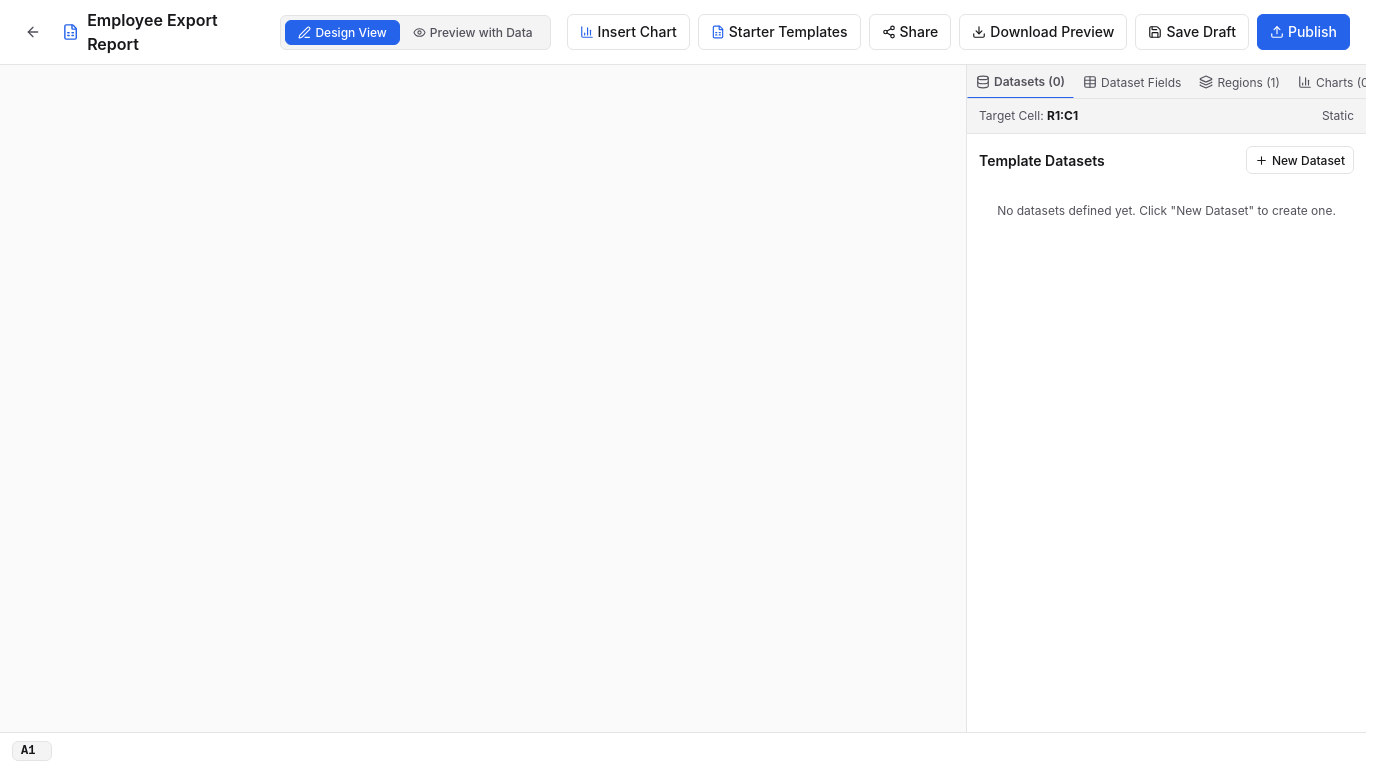
Test: Phase 2B Addendum: Designer Visibility of Bindings & Panels › renders the designer and displays bound cell notice when a bound cell is selected
Expected: the text "Employee Export Report" is shown, [87,10,218,54]
Expected: the text "Regions (1)" is shown, [1217,74,1280,90]
Click the button "Regions (1)". click: {"x": 1240, "y": 82}
box: [1190,65,1289,98]
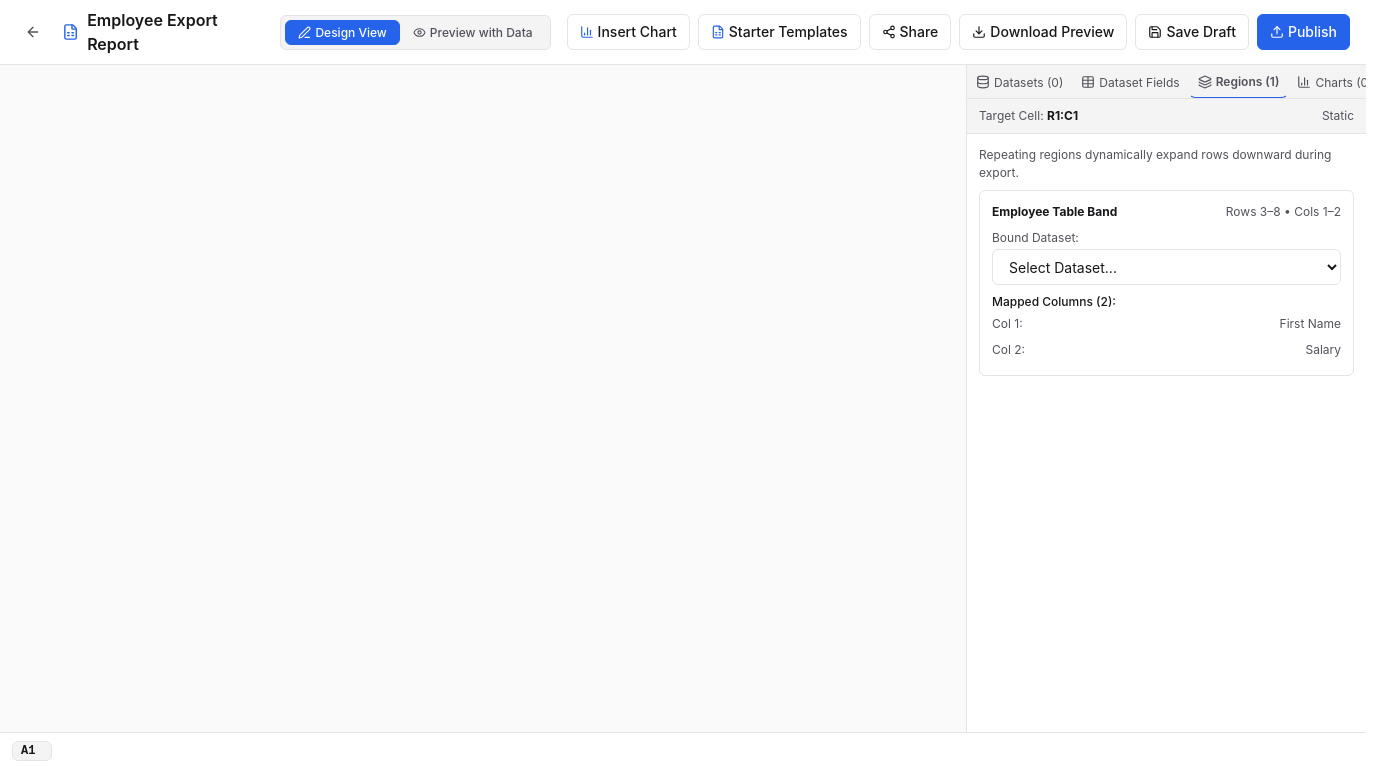
Click the text "Employee Table Band". click: {"x": 1055, "y": 212}
box: [992,203,1117,221]
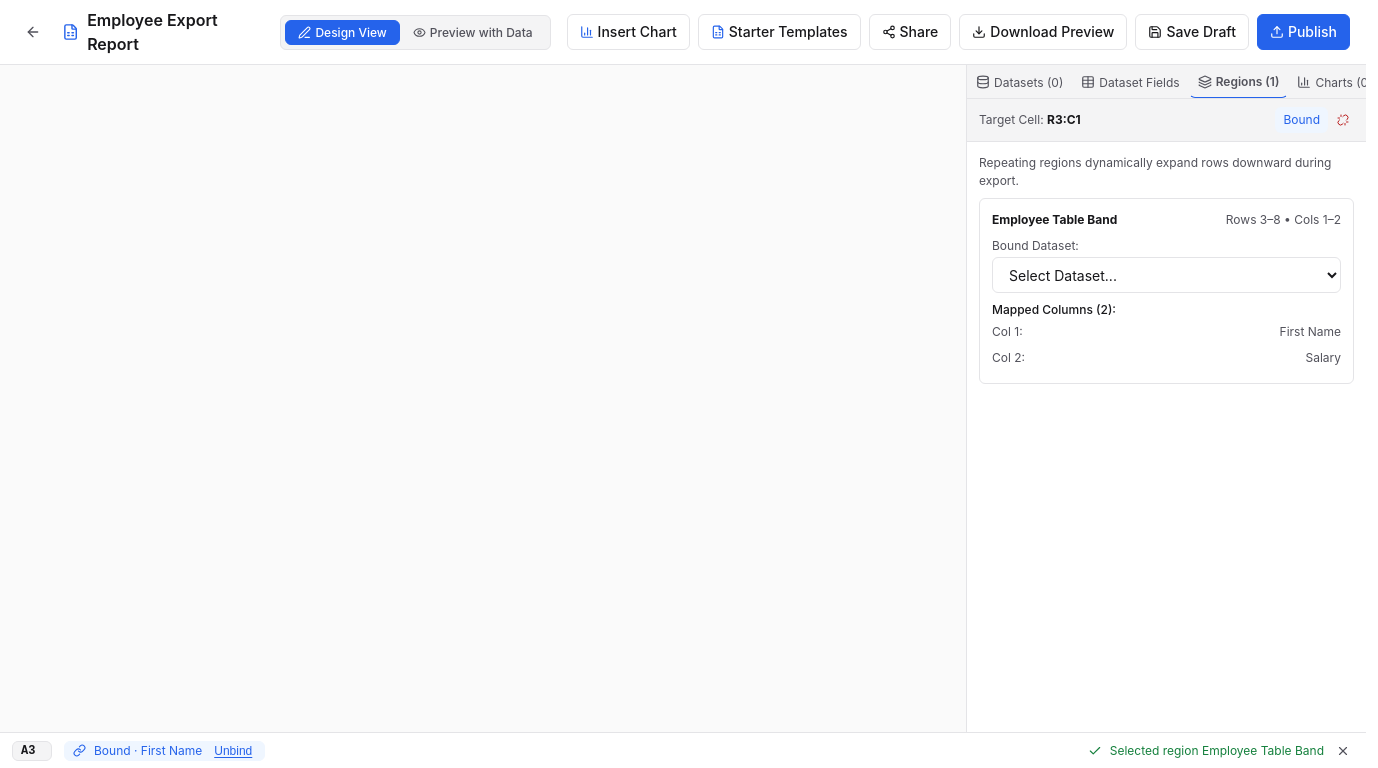
Result: the element with test id "bound-cell-notice" shows "Bound · First Name" at [64,740,265,760]
Result: the button with aria-label "unbind selected cell" is shown at [210,744,256,758]
